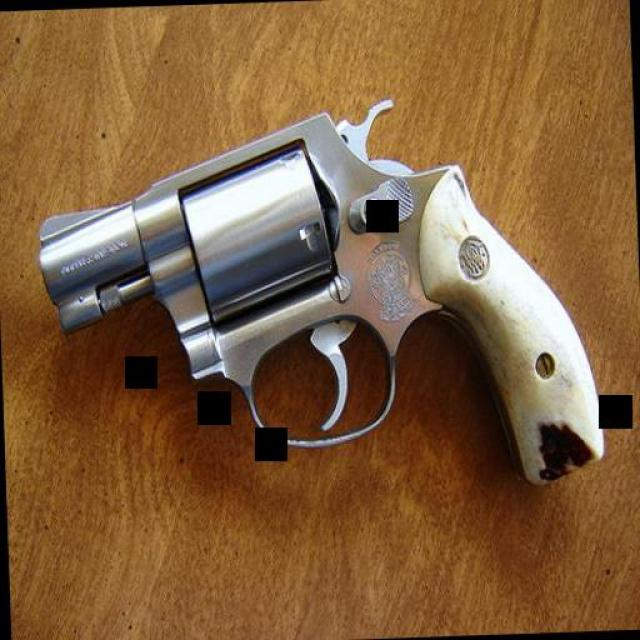gun: (29, 86, 604, 515)
